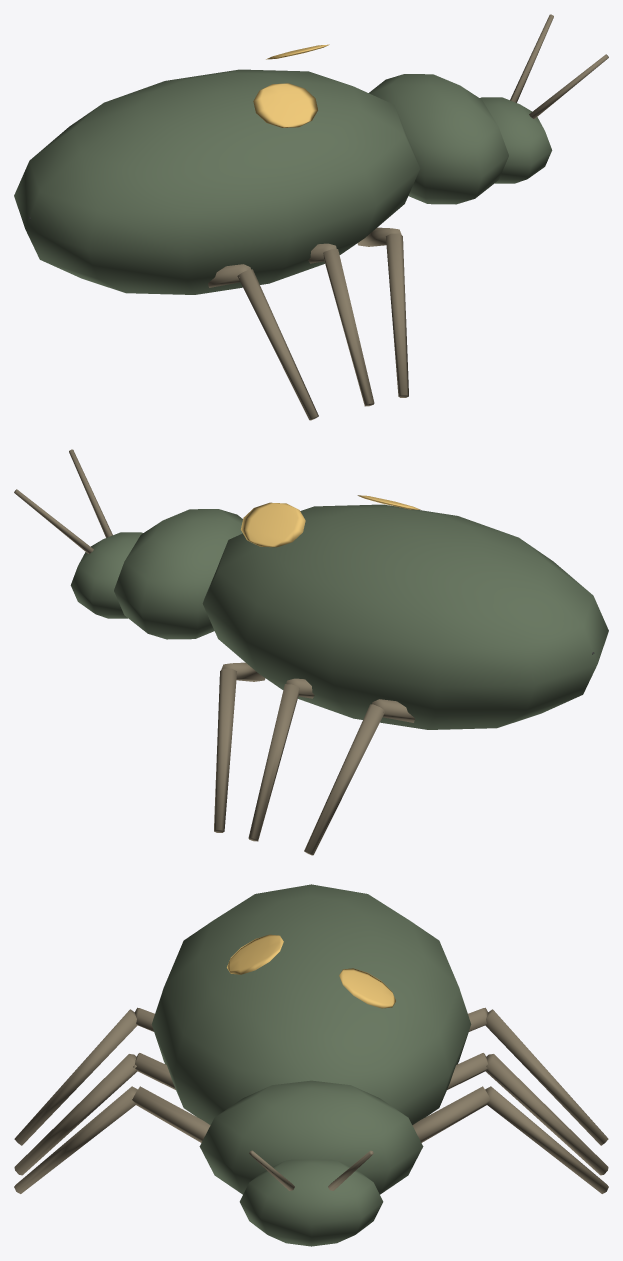
Rendered from orange-spotted-diving-beetle.glb.
The picture shows the model from 3 angles, top to bottom: view 1: azimuth 30°, elevation 25°; view 2: azimuth 150°, elevation 25°; view 3: azimuth 270°, elevation 25°; orthographic projection. The views are drawn at different scales.
Parts seen in each view (by area): view 1: e; view 2: e; view 3: e.
Boxes of the visible parts, x1,y1,x2,y2 form: e: (14, 14, 608, 420); e: (14, 449, 608, 855); e: (14, 884, 608, 1246).
Bounding box in the file's own units: 0.4562 × 0.1787 × 0.3909.
